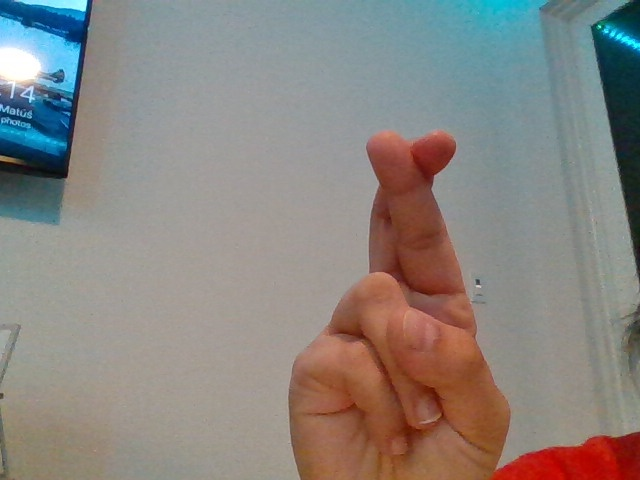r: (284, 124, 514, 479)
